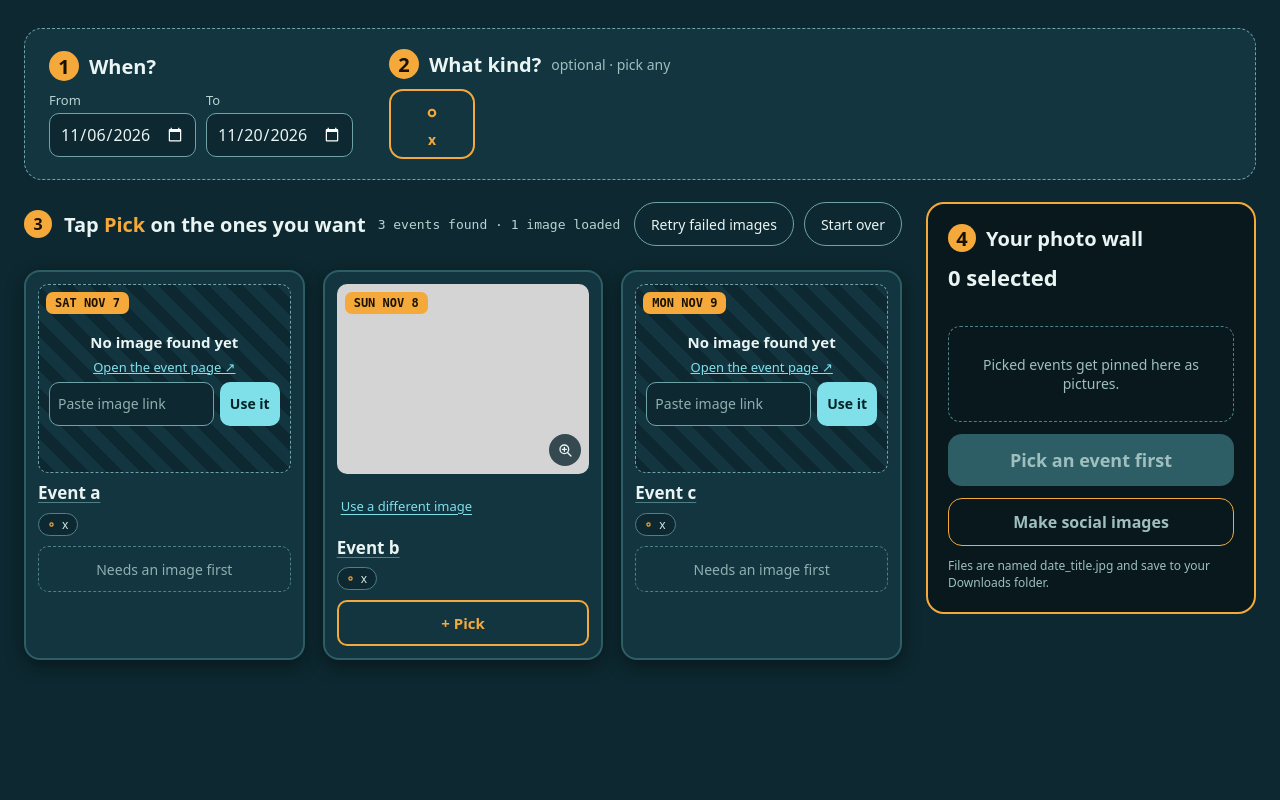
Test: EventsApp: pasting an image link › a refused paste does not clear an earlier good one on another card
Check: the text "3 events found · 1 image loaded" is shown, box [378,216,620,232]
Step 1. Type "https://img.example.com/mine.jpg" into the field named "Paste an image link for Event a" → point(131, 404), box [49,382,214,426]
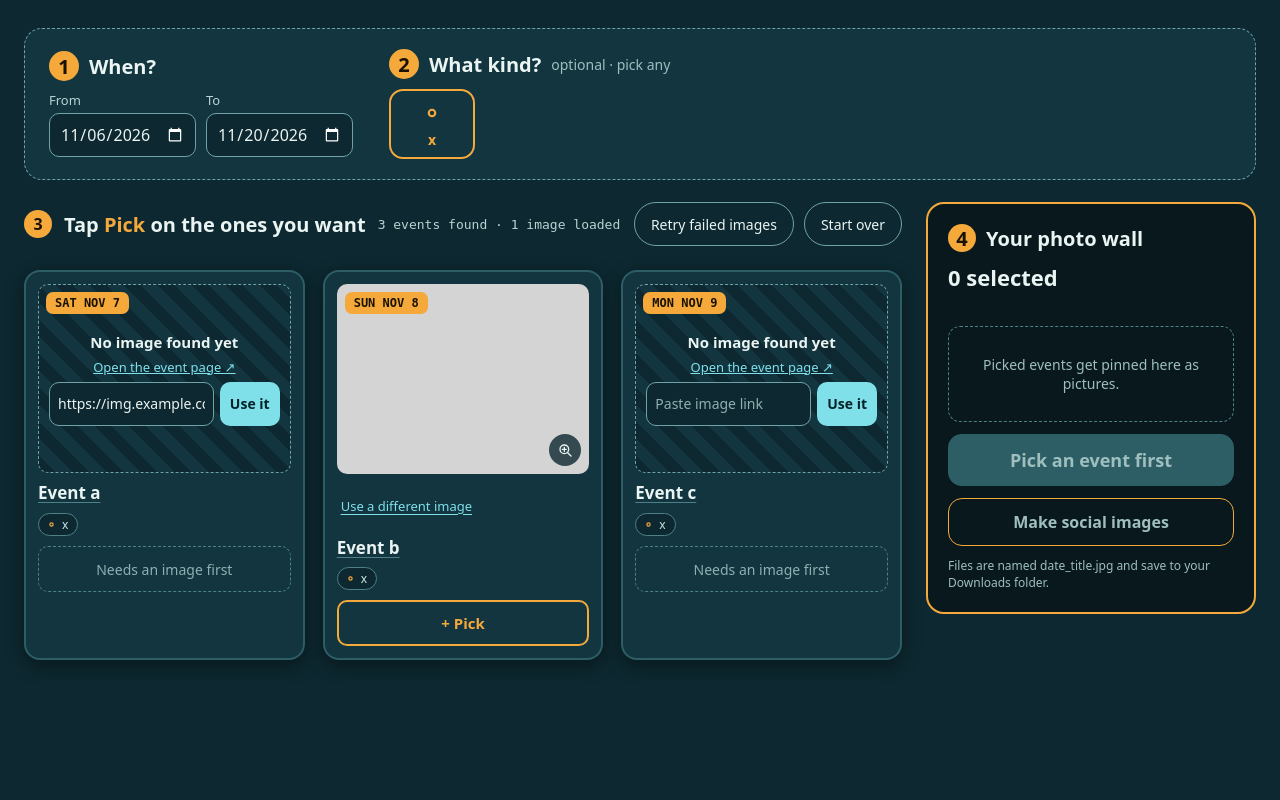
Step 2. Click the button "Use it" below "SAT NOV 7" → point(250, 404), box [220,382,280,426]
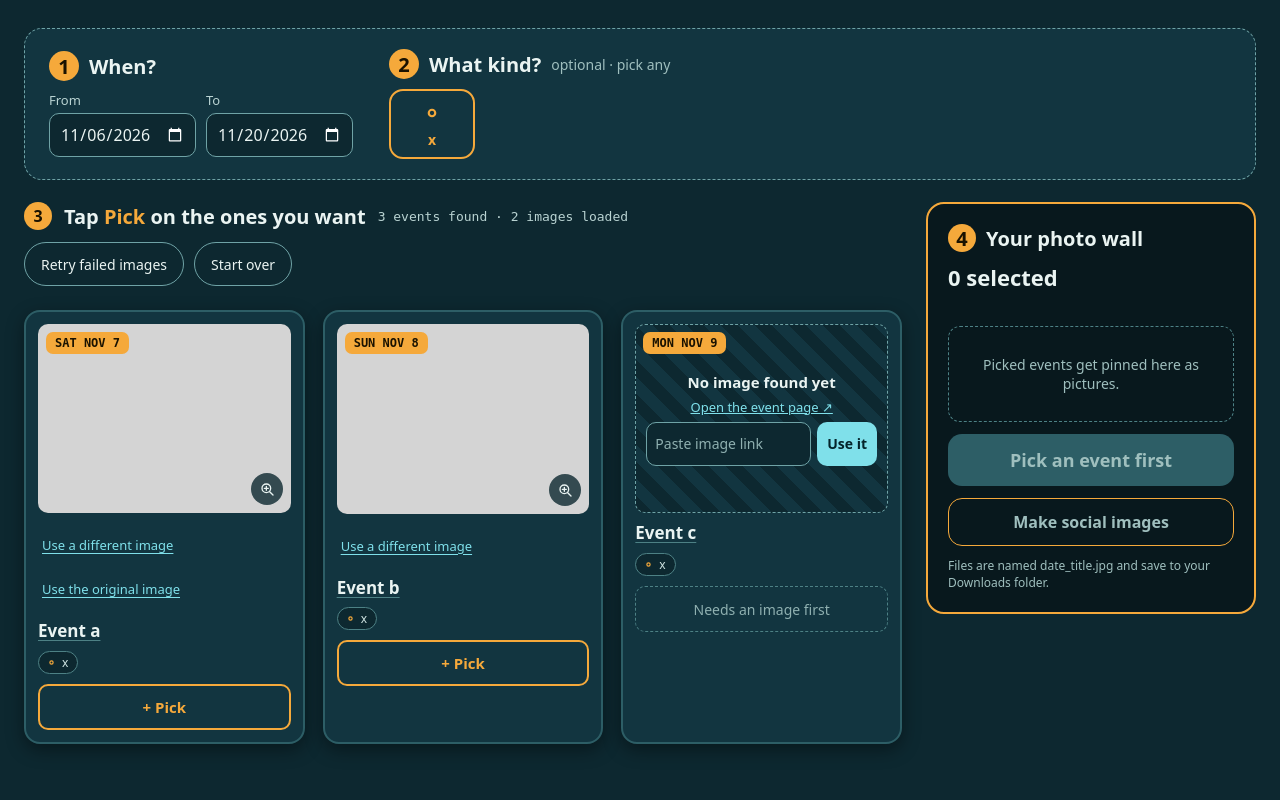
Check: the text "3 events found · 2 images loaded" is shown, box [378,208,628,224]
Step 3. Type "https://example.com/page" into the field with placeholder "Paste image link" → point(729, 444), box [646,422,811,466]
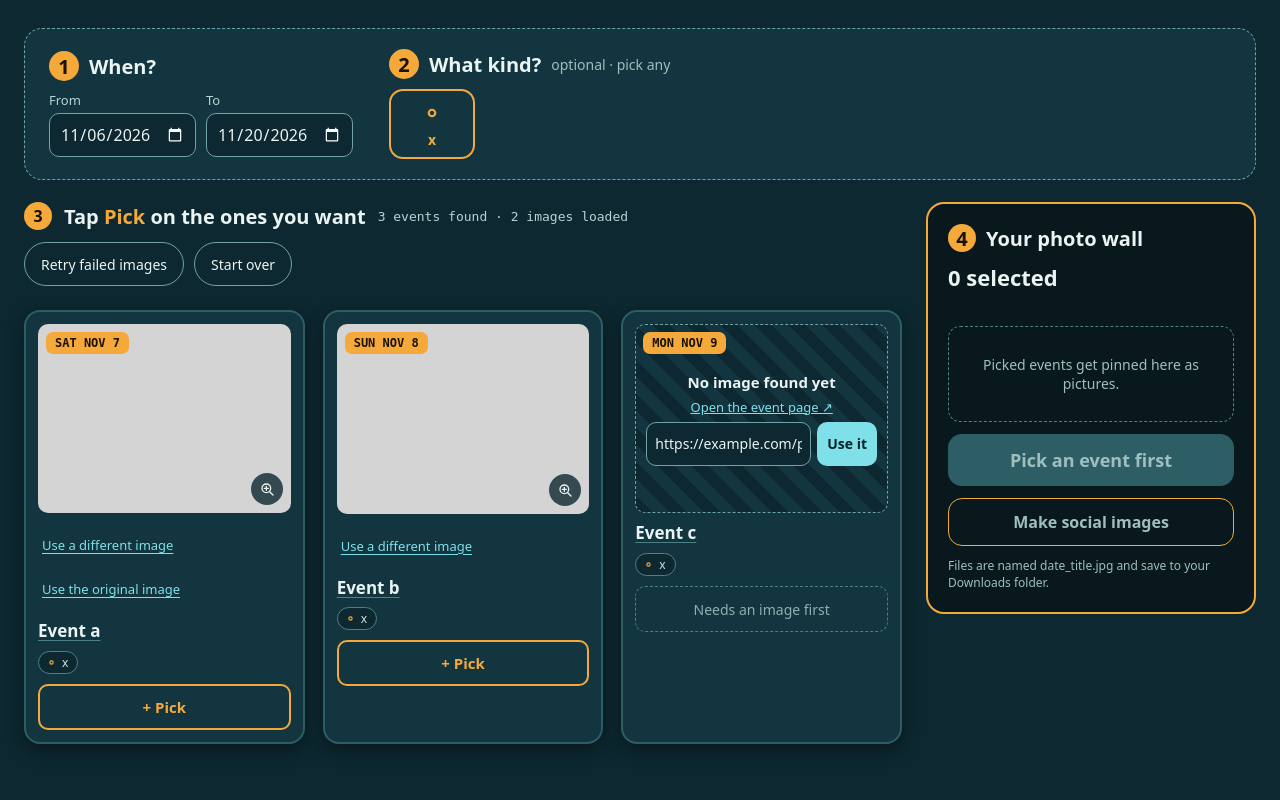
Step 4. Click the button "Use it" → point(847, 444), box [817,422,877,466]
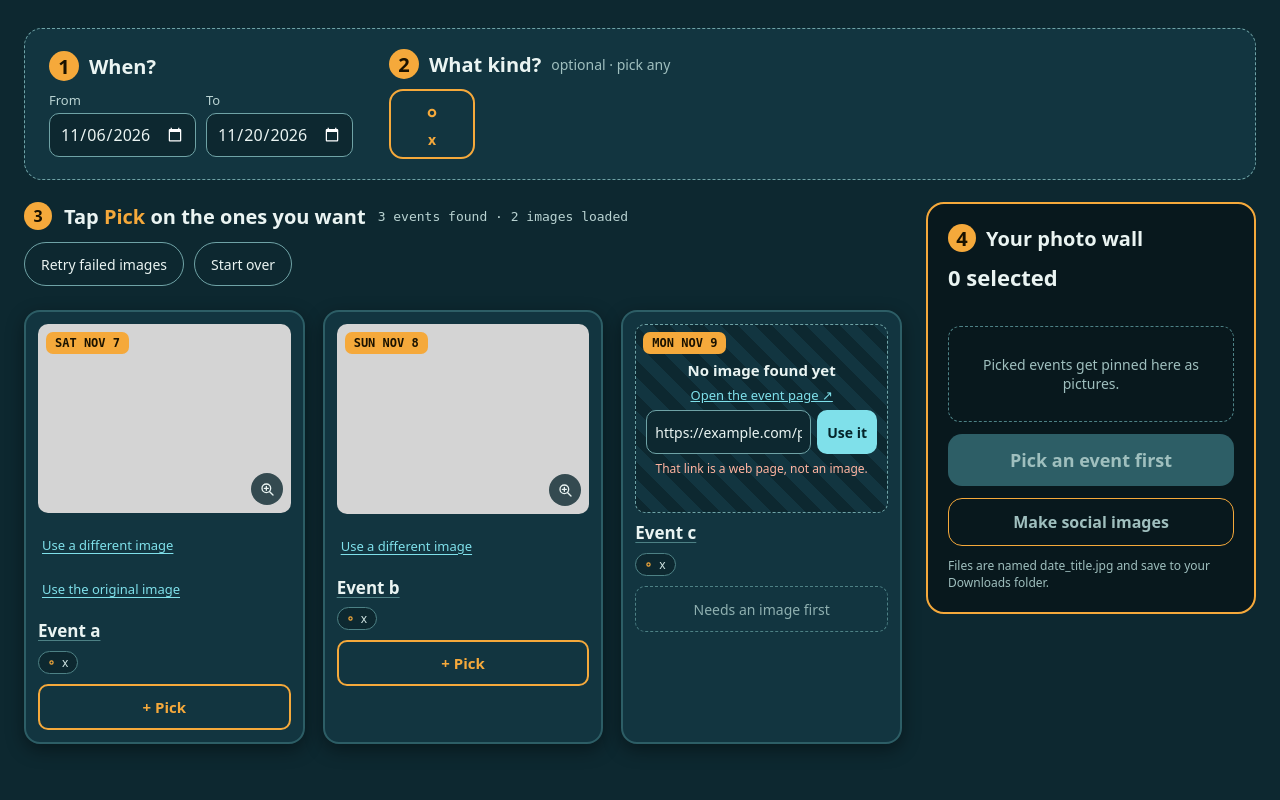
Check: the text "3 events found · 2 images loaded" is shown, box [378,208,628,224]
Check: the checkbox named "Select Event a" is shown, box [38,684,291,730]
Check: the message "That link is a web page, not an image." is shown, box [656,460,868,477]
